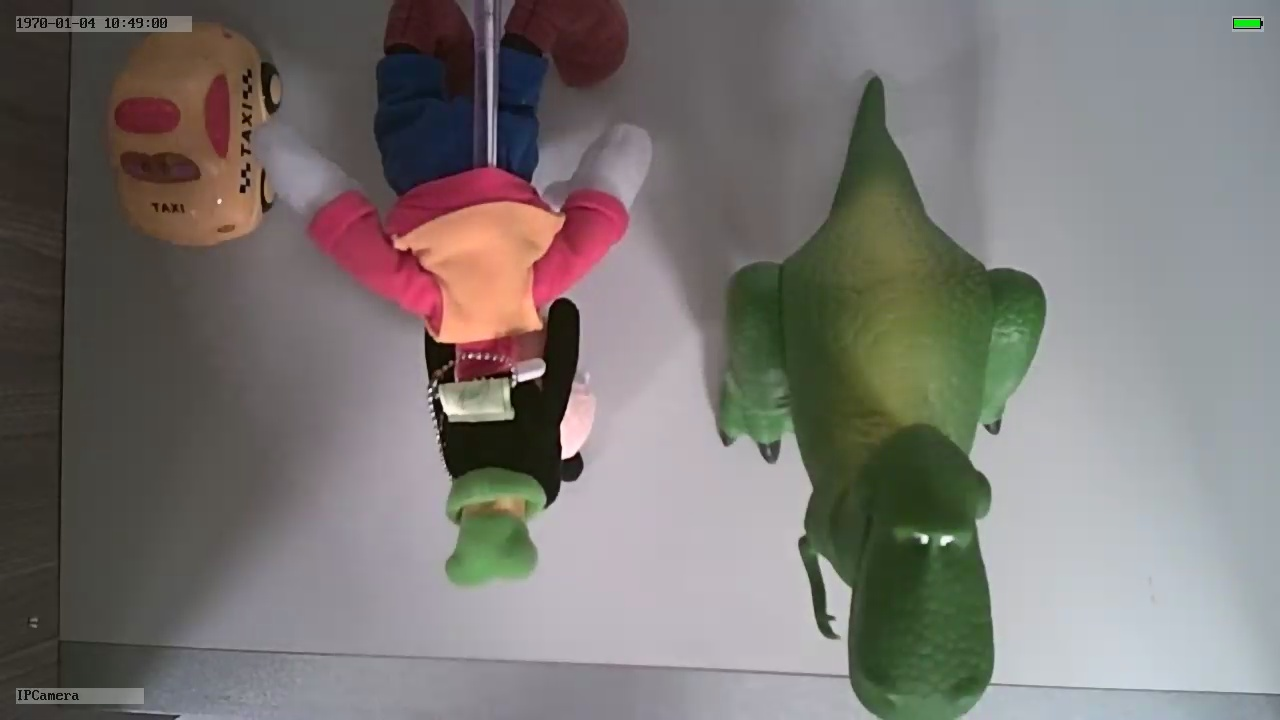car: (103, 21, 282, 248)
goofy: (257, 118, 653, 585)
rex: (718, 149, 1046, 720)
